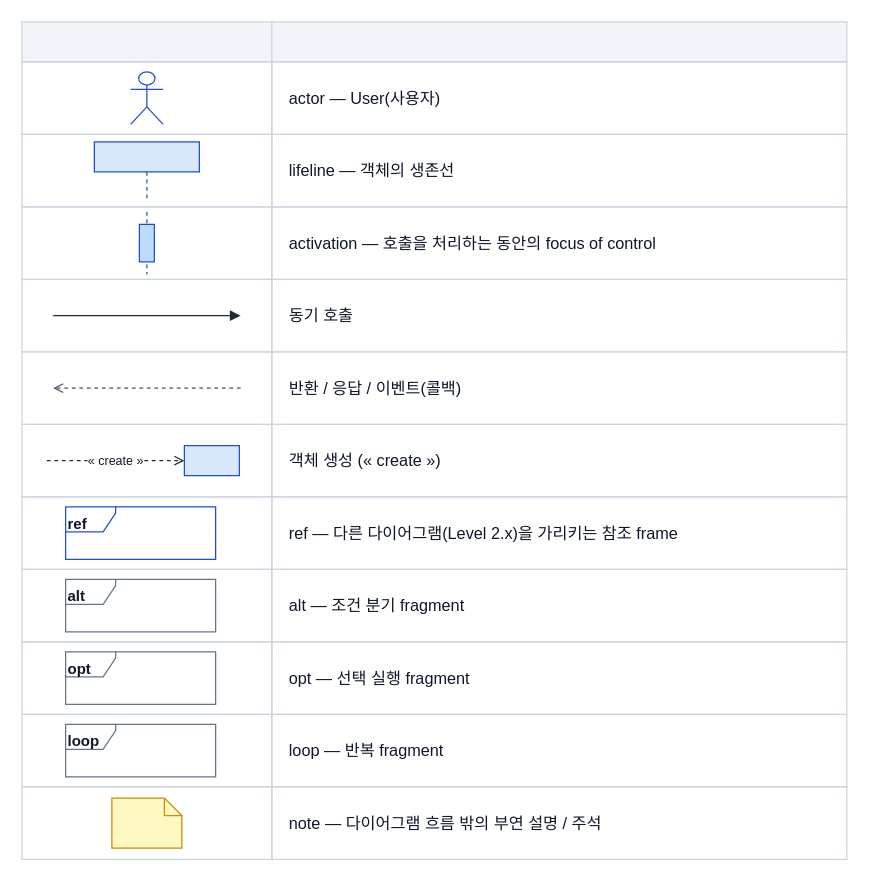
This 869x881 diagram has some shape labels left out. The box of each missing label's shape, as (x1, y1, x2, y2) in pixels:
객체: (93, 141, 199, 172)
기호: (21, 21, 272, 62)
의미: (271, 21, 847, 62)
